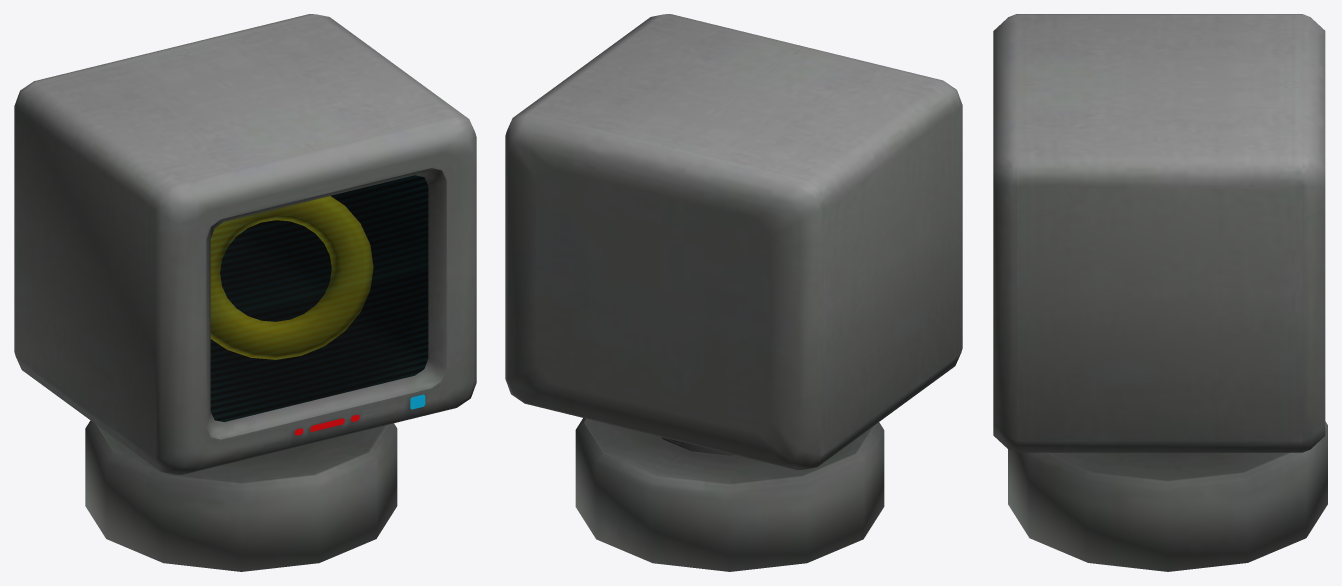
3 renders of one model, left to right at view 1: azimuth 30°, elevation 25°; view 2: azimuth 150°, elevation 25°; view 3: azimuth 270°, elevation 25°, orthographic. The views are drawn at different scales.
Parts seen in each view (by area): view 1: stu_obj_c_itembox; view 2: stu_obj_c_itembox; view 3: stu_obj_c_itembox.
Boxes of the visible parts, x1,y1,x2,y2 form: stu_obj_c_itembox: (14, 14, 476, 571); stu_obj_c_itembox: (505, 14, 962, 571); stu_obj_c_itembox: (993, 14, 1327, 571).
Bounding box in the file's own units: 0.5998 × 0.7338 × 0.5336.
4 materials, 4 textured.
